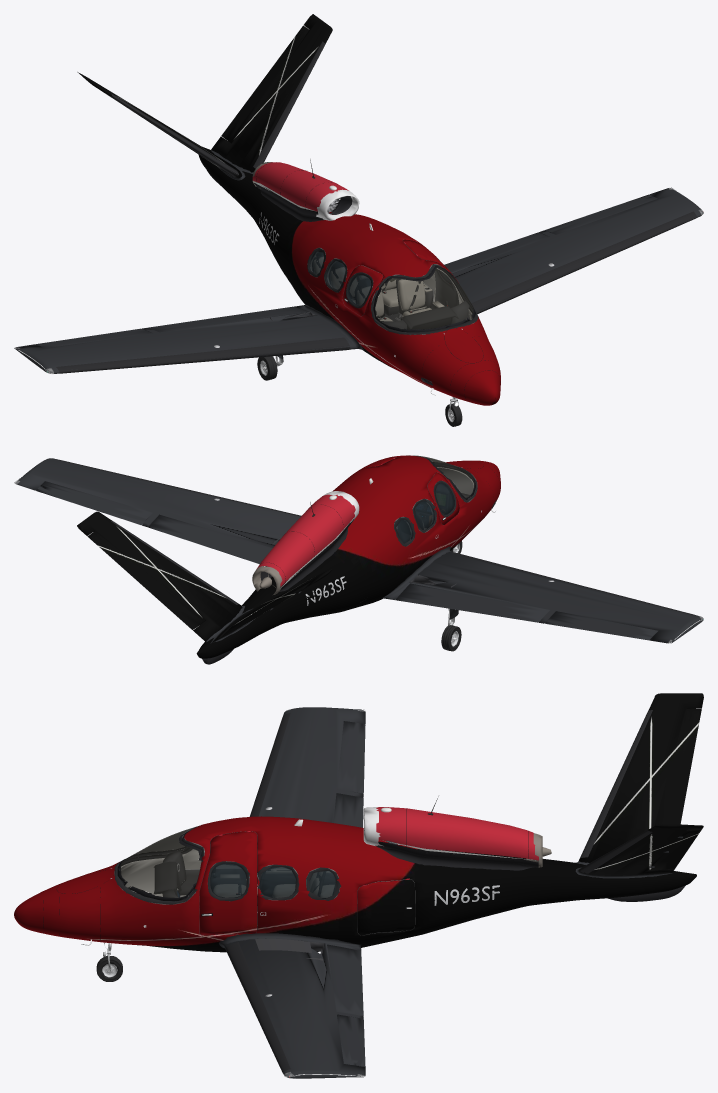
File: plane_cirrus_sf50.glb
The picture shows the model from 3 angles, top to bottom: view 1: azimuth 30°, elevation 25°; view 2: azimuth 150°, elevation 25°; view 3: azimuth 270°, elevation 25°; orthographic projection. The views are drawn at different scales.
Visible parts, largest first — view 1: Exterior, Glazing, Interior, Ctrl_Ruddervator_L, Door_Exit, Ctrl_Flap_R, Door_Main, Ctrl_Flap_L, Ctrl_Aileron_L, Ctrl_Aileron_R; view 2: Exterior, Ctrl_Flap_R, Ctrl_Flap_L, Ctrl_Ruddervator_L, Ctrl_Aileron_L, Glazing, Ctrl_Aileron_R, Door_Exit, Interior, Wheel_Main_R, Ctrl_Ruddervator_R; view 3: Exterior, Glazing, Door_Main, Interior, Door_Baggage, Ctrl_Ruddervator_R, Ctrl_Flap_L, Ctrl_Aileron_R, Ctrl_Aileron_L, Ctrl_Flap_R, Ctrl_Ruddervator_L.
Part boxes in pixels (left/top/right/bottom): Exterior: left=14, top=14, right=703, bottom=405; Glazing: left=309, top=251, right=475, bottom=332; Interior: left=310, top=252, right=472, bottom=332; Ctrl_Ruddervator_L: left=221, top=25, right=308, bottom=143; Door_Exit: left=342, top=265, right=383, bottom=315; Ctrl_Flap_R: left=148, top=306, right=309, bottom=332; Door_Main: left=402, top=239, right=459, bottom=307; Ctrl_Flap_L: left=444, top=232, right=549, bottom=272; Ctrl_Aileron_L: left=545, top=194, right=657, bottom=234; Ctrl_Aileron_R: left=36, top=328, right=152, bottom=348; Exterior: left=14, top=455, right=703, bottom=664; Ctrl_Flap_R: left=395, top=583, right=549, bottom=622; Ctrl_Flap_L: left=148, top=515, right=272, bottom=564; Ctrl_Ruddervator_L: left=87, top=531, right=205, bottom=629; Ctrl_Aileron_L: left=36, top=481, right=152, bottom=524; Glazing: left=396, top=455, right=475, bottom=543; Ctrl_Aileron_R: left=545, top=611, right=658, bottom=640; Door_Exit: left=427, top=472, right=459, bottom=524; Interior: left=396, top=464, right=473, bottom=542; Wheel_Main_R: left=441, top=625, right=461, bottom=651; Ctrl_Ruddervator_R: left=222, top=583, right=308, bottom=636; Exterior: left=14, top=693, right=703, bottom=1078; Glazing: left=117, top=825, right=336, bottom=900; Door_Main: left=200, top=831, right=257, bottom=935; Interior: left=121, top=847, right=385, bottom=924; Door_Baggage: left=357, top=879, right=414, bottom=935; Ctrl_Ruddervator_R: left=654, top=708, right=701, bottom=825; Ctrl_Flap_L: left=327, top=944, right=363, bottom=1015; Ctrl_Aileron_R: left=337, top=721, right=365, bottom=793; Ctrl_Aileron_L: left=337, top=1014, right=365, bottom=1066; Ctrl_Flap_R: left=333, top=793, right=363, bottom=827; Ctrl_Ruddervator_L: left=648, top=829, right=701, bottom=870.
Bounding box in the file's own units: 11.88 × 3.34 × 9.42.
Materials: 75 (11 with a texture image).
